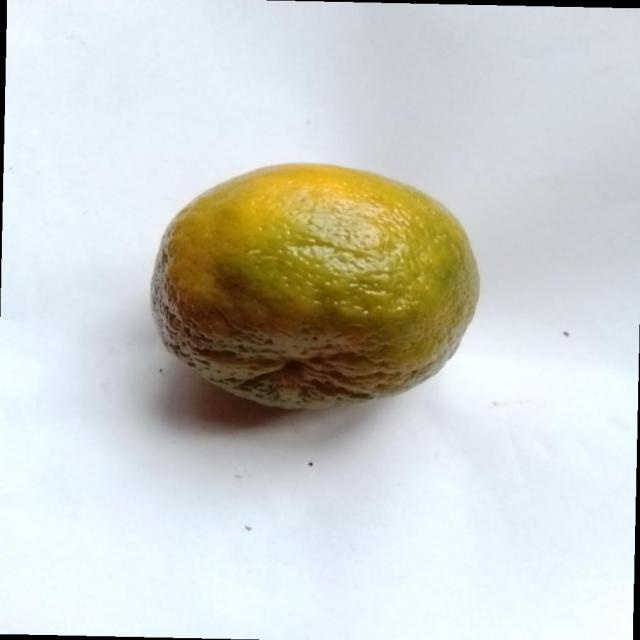agrume: (148, 160, 480, 412)
